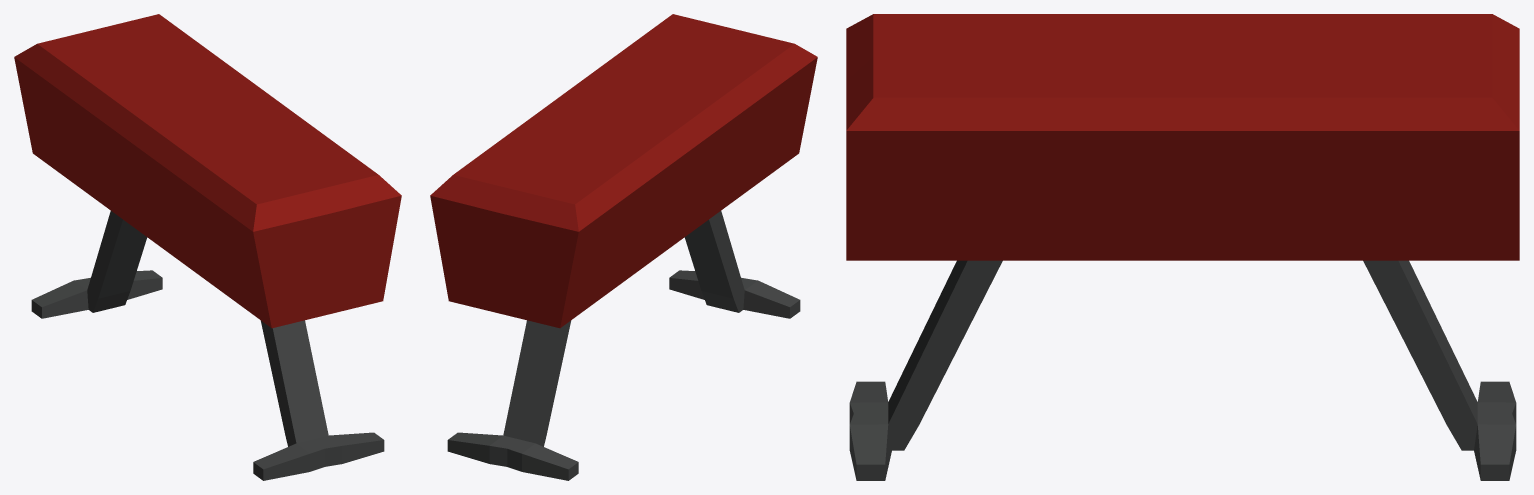
Rendered from Goat.fbx.
3 renders of one model, left to right at view 1: azimuth 30°, elevation 25°; view 2: azimuth 150°, elevation 25°; view 3: azimuth 270°, elevation 25°, orthographic. The views are drawn at different scales.
Visible parts, largest first — view 1: Козёл; view 2: Козёл; view 3: Козёл.
Boxes of the visible parts, box(x1,y1,x2,y2) form: Козёл: box(14, 14, 401, 480); Козёл: box(430, 14, 817, 480); Козёл: box(846, 14, 1519, 480).
Size of the model in its own units: 192 by 336 by 534.
